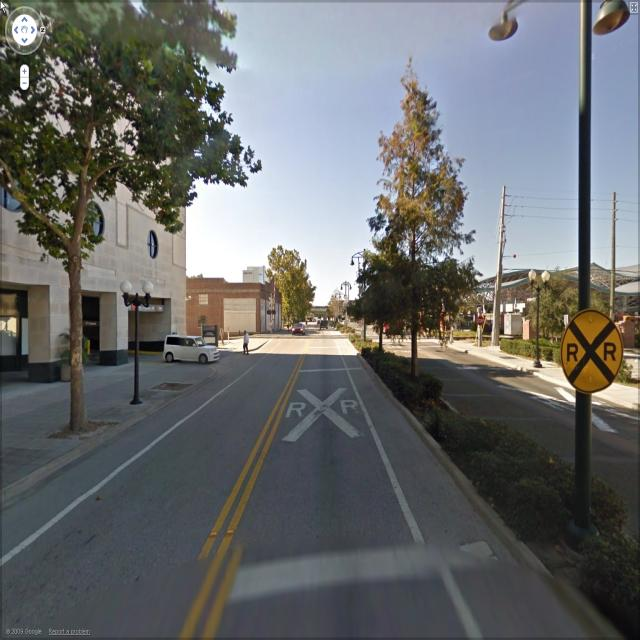b_1: (172, 275, 294, 351)
b_2: (0, 1, 192, 345), (240, 259, 290, 282)
